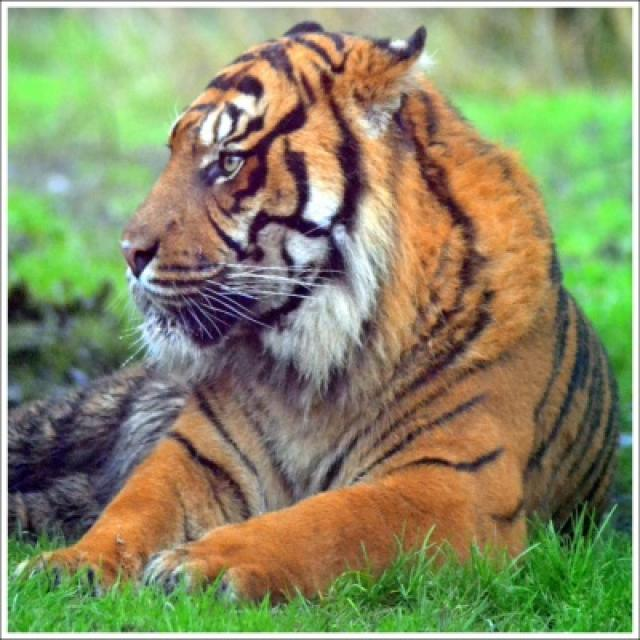Tiger: (11, 22, 616, 600)
